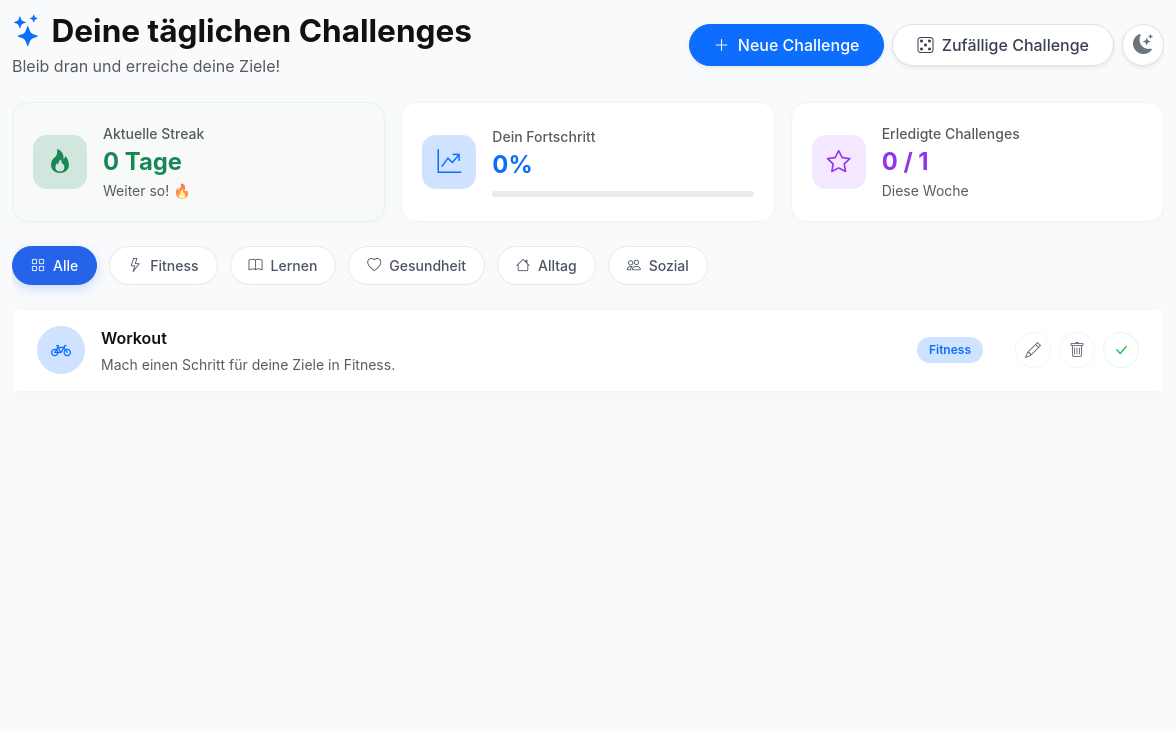
Scenario: ChallengeList › accepts a generated challenge suggestion through POST and reloads the list
The image size is (1176, 732).
Click the button "Zufällige Challenge": point(1003, 45) 892,24 -> 1114,66
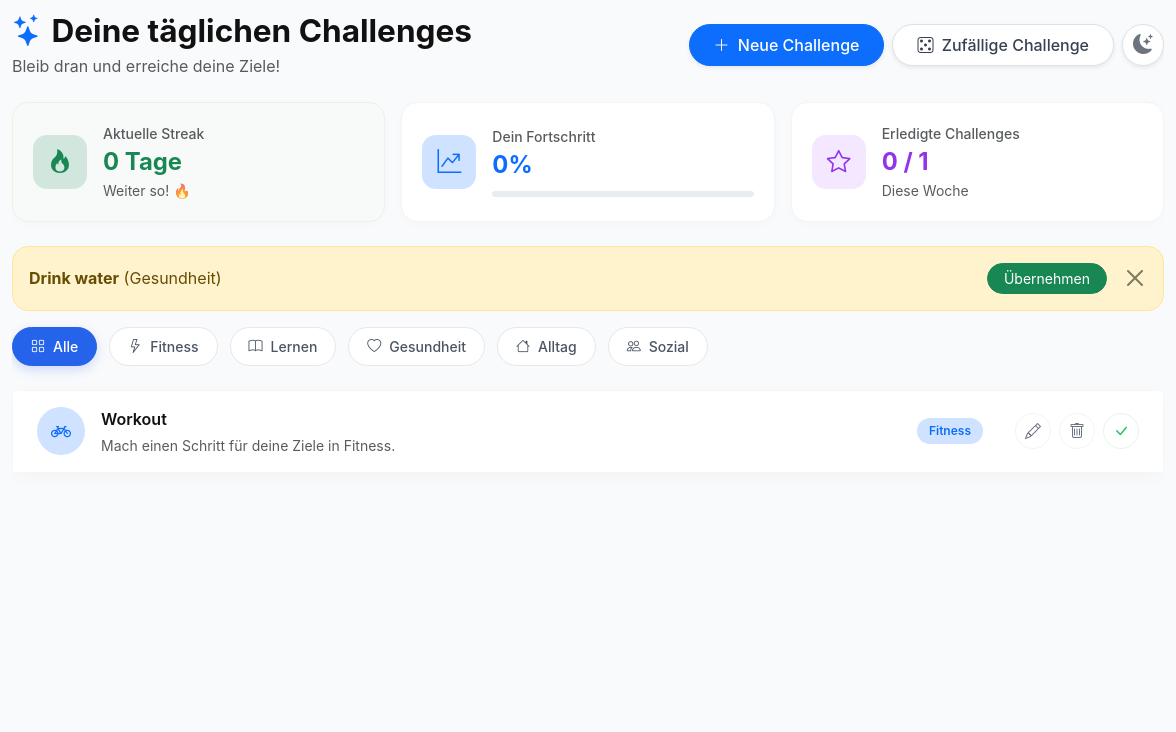
Click the button "Übernehmen": point(1047, 278) 987,263 -> 1107,294
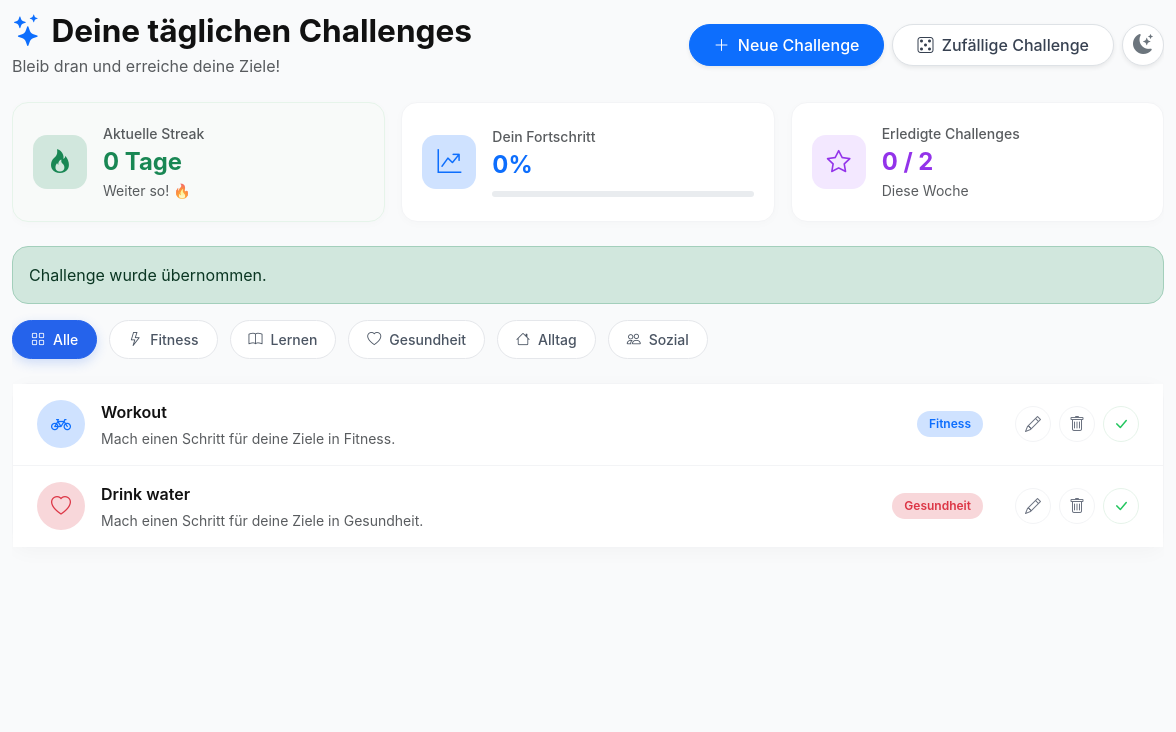
Check: the text "Drink water" is shown, box 101,484 -> 190,504
Check: the text "Challenge wurde übernommen." is shown, box 12,246 -> 1164,304
